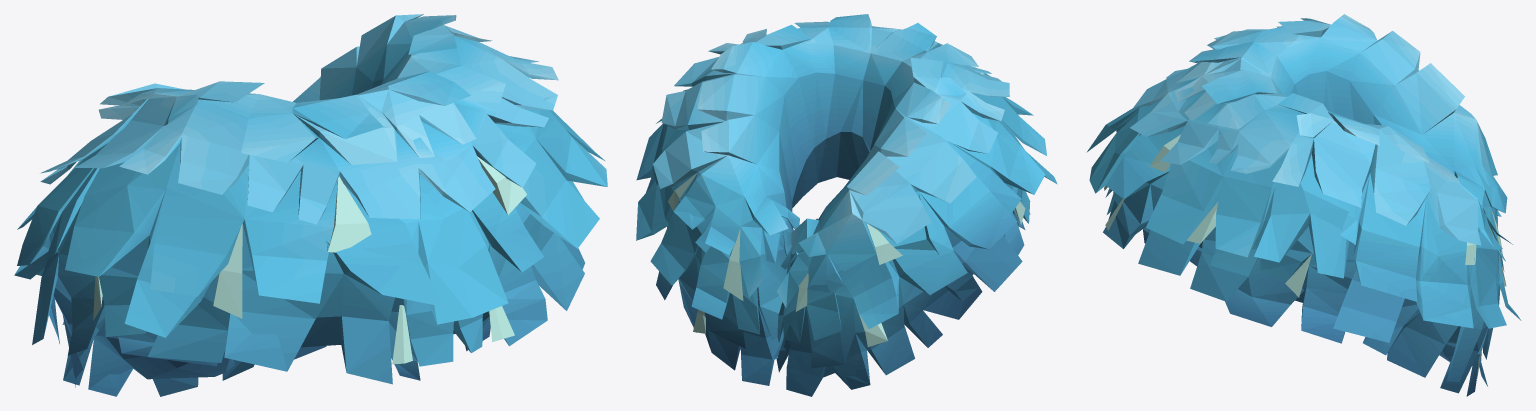
The model's file is CharSkyKid_Neck_RibbonBib.glb.
3 renders of one model, left to right at view 1: azimuth 30°, elevation 25°; view 2: azimuth 150°, elevation 25°; view 3: azimuth 270°, elevation 25°, orthographic. The views are drawn at different scales.
Parts seen in each view (by area): view 1: CharSkyKid_Neck_RibbonBib; view 2: CharSkyKid_Neck_RibbonBib; view 3: CharSkyKid_Neck_RibbonBib.
Boxes of the visible parts, x1=… form: CharSkyKid_Neck_RibbonBib: x1=14, y1=14, x2=607, y2=396; CharSkyKid_Neck_RibbonBib: x1=636, y1=14, x2=1057, y2=396; CharSkyKid_Neck_RibbonBib: x1=1086, y1=14, x2=1521, y2=396.
Bounding box in the file's own units: 5.03 × 3.65 × 4.61.
1 material, 1 textured.
